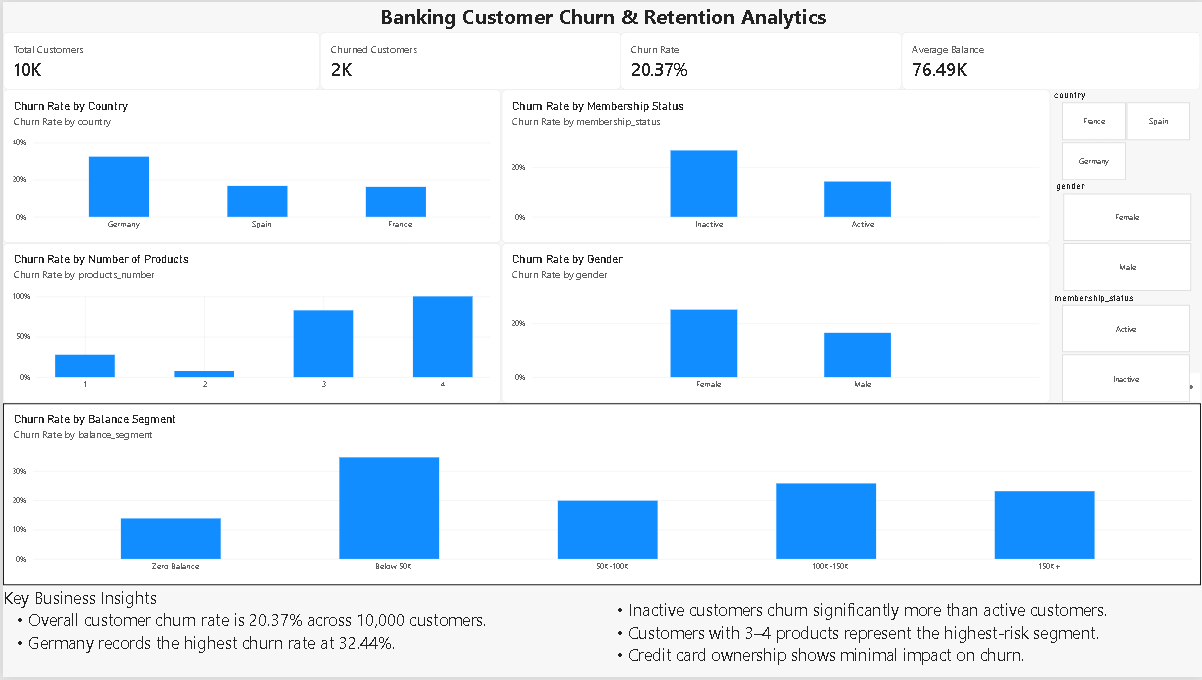

The dashboard page shown, as its layout file describes it:
{"tool":"powerbi","page":{"name":"Page 1","canvas":[1920,1080],"ordinal":0},"visuals":[{"type":"clusteredColumnChart","title":"Churn Rate by Country","fields":{"Category":["powerbi_customer_churn.country"],"Y":["powerbi_customer_churn.Churn Rate"]},"box":[0,139.5,797.1,245.9],"z":0},{"type":"textbox","box":[0,0,1920.4,47.3],"z":1},{"type":"clusteredColumnChart","title":"Churn Rate by Membership Status","fields":{"Category":["powerbi_customer_churn.membership_status"],"Y":["powerbi_customer_churn.Churn Rate"]},"box":[797.1,139.5,877.3,245.9],"z":2},{"type":"clusteredColumnChart","title":"Churn Rate by Number of Products","fields":{"Category":["powerbi_customer_churn.products_number"],"Y":["powerbi_customer_churn.Churn Rate"]},"box":[0,385.5,797.1,256.4],"z":3},{"type":"clusteredColumnChart","title":"Churn Rate by Gender","fields":{"Category":["powerbi_customer_churn.gender"],"Y":["powerbi_customer_churn.Churn Rate"]},"box":[797.1,385.5,877.3,256.4],"z":4},{"type":"clusteredColumnChart","title":"Churn Rate by Balance Segment","fields":{"Category":["powerbi_customer_churn.balance_segment"],"Y":["powerbi_customer_churn.Churn Rate"]},"box":[0,641.9,1918.6,291.3],"z":5},{"type":"cardVisual","fields":{"Data":["powerbi_customer_churn.Total Customers"]},"box":[0,47.1,507.6,92.4],"z":6},{"type":"cardVisual","fields":{"Data":["powerbi_customer_churn.Churned Customers"]},"box":[507.6,47.1,481.4,92.4],"z":7},{"type":"cardVisual","fields":{"Data":["powerbi_customer_churn.Churn Rate"]},"box":[989,47.1,450,92.4],"z":8},{"type":"cardVisual","fields":{"Data":["powerbi_customer_churn.Average Balance"]},"box":[1439,47.1,479.7,92.4],"z":9},{"type":"textbox","box":[0,933.1,959.3,146.5],"z":10},{"type":"textbox","box":[959.3,933.1,959.3,146.5],"z":11},{"type":"slicer","fields":{"Values":["powerbi_customer_churn.country"]},"box":[1674.4,139.5,244.2,146.5],"z":12},{"type":"slicer","fields":{"Values":["powerbi_customer_churn.gender"]},"box":[1676.2,286,244.2,177.9],"z":13},{"type":"slicer","fields":{"Values":["powerbi_customer_churn.membership_status"]},"box":[1674.4,464,244.2,177.9],"z":14}]}

Visuals, with their boxes in screenshot pixels (x1, y1, x2, y2), scaled from the page's 1920x1080 canvas onto the 1202x680 screenshot:
"Churn Rate by Country" clusteredColumnChart: [0,88,499,243]
textbox: [0,0,1201,30]
"Churn Rate by Membership Status" clusteredColumnChart: [499,88,1048,243]
"Churn Rate by Number of Products" clusteredColumnChart: [0,243,499,404]
"Churn Rate by Gender" clusteredColumnChart: [499,243,1048,404]
"Churn Rate by Balance Segment" clusteredColumnChart: [0,404,1201,588]
cardVisual - powerbi_customer_churn.Total Customers: [0,30,318,88]
cardVisual - powerbi_customer_churn.Churned Customers: [318,30,619,88]
cardVisual - powerbi_customer_churn.Churn Rate: [619,30,901,88]
cardVisual - powerbi_customer_churn.Average Balance: [901,30,1201,88]
textbox: [0,588,601,679]
textbox: [601,588,1201,679]
slicer - powerbi_customer_churn.country: [1048,88,1201,180]
slicer - powerbi_customer_churn.gender: [1049,180,1201,292]
slicer - powerbi_customer_churn.membership_status: [1048,292,1201,404]
